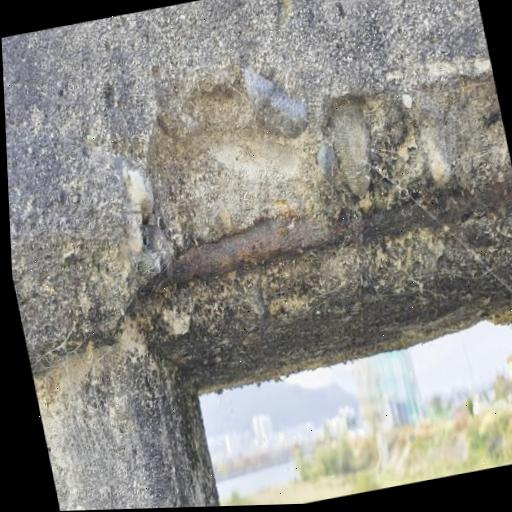exposed_rebar: (141, 179, 512, 293)
